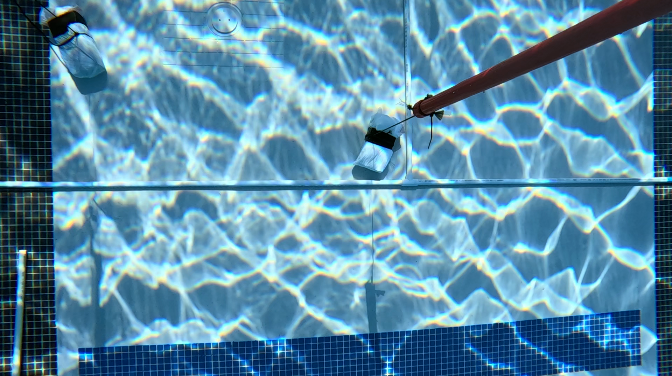sandbag: (42, 4, 104, 78), (354, 112, 402, 174)
